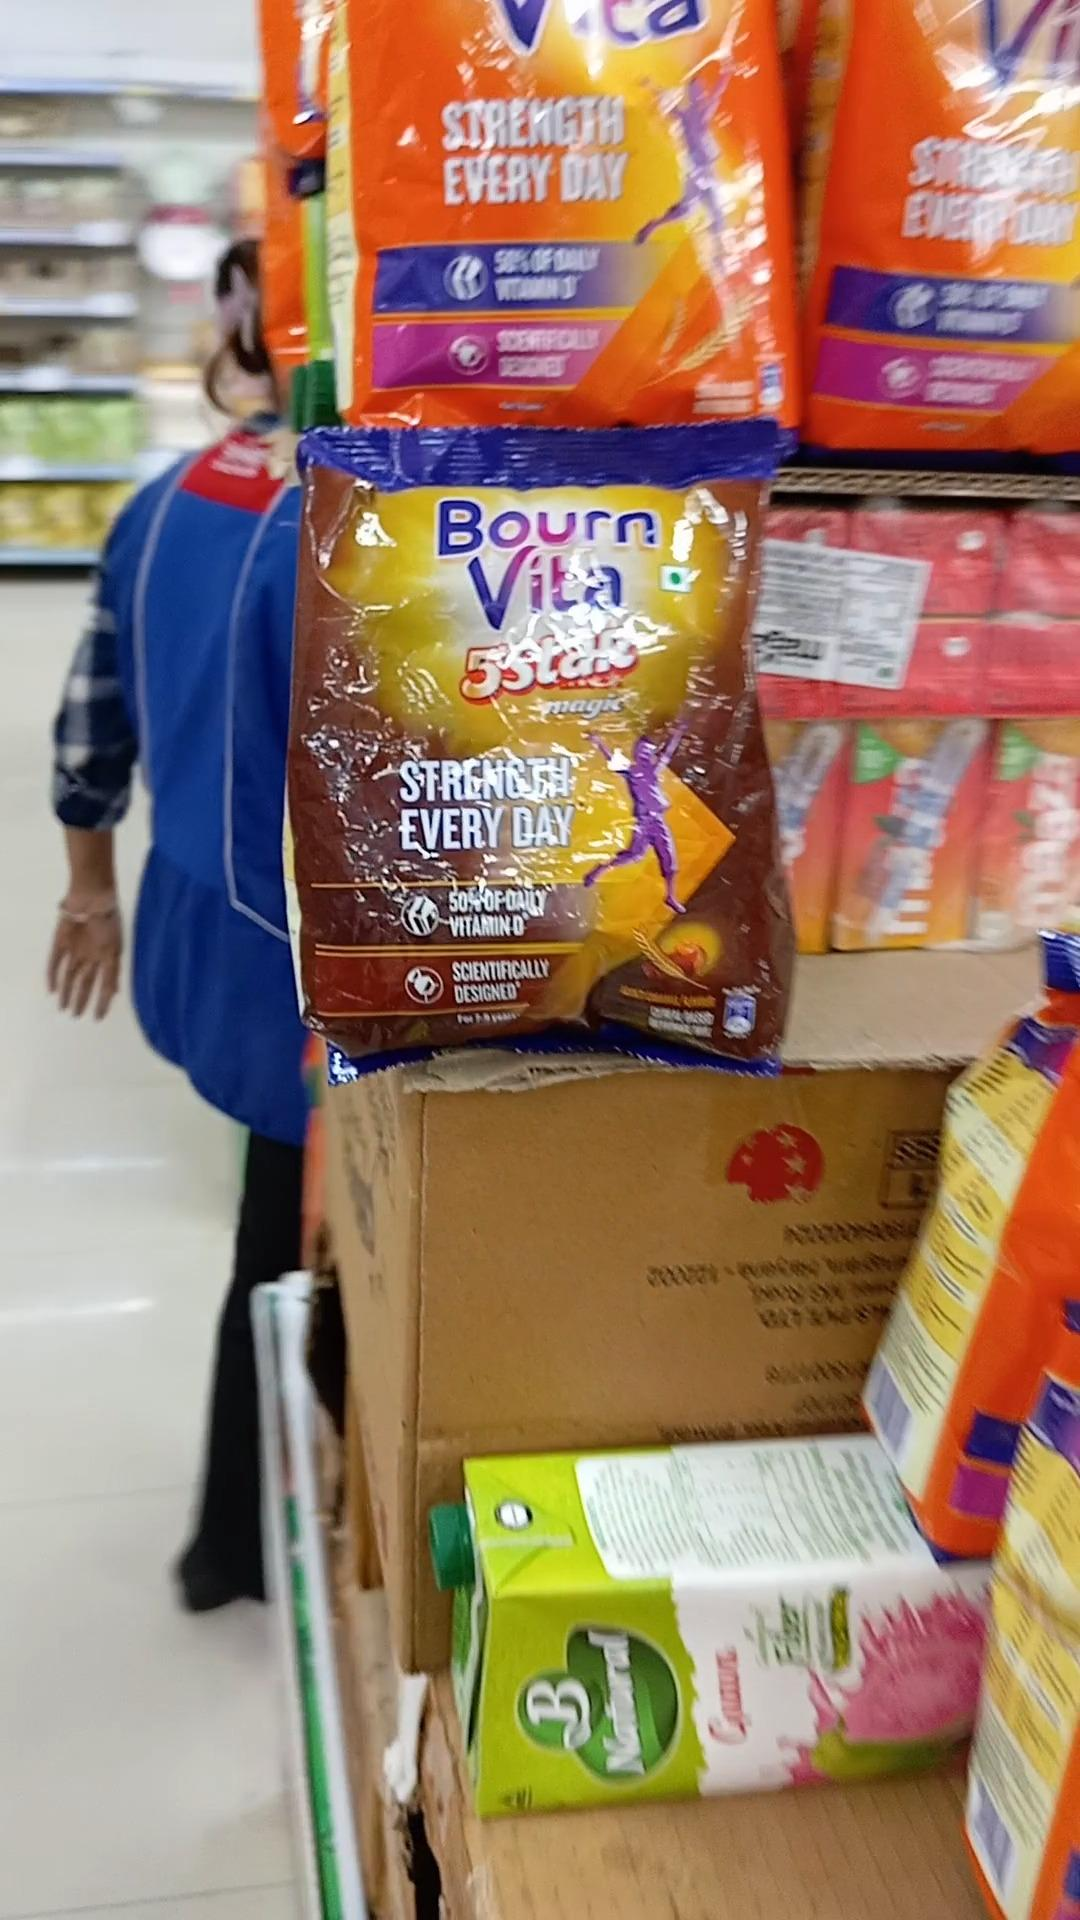BOURN_VITA_FIVE_STAR_MAGIC_500_G_POUCH: (298, 434, 783, 1076)
